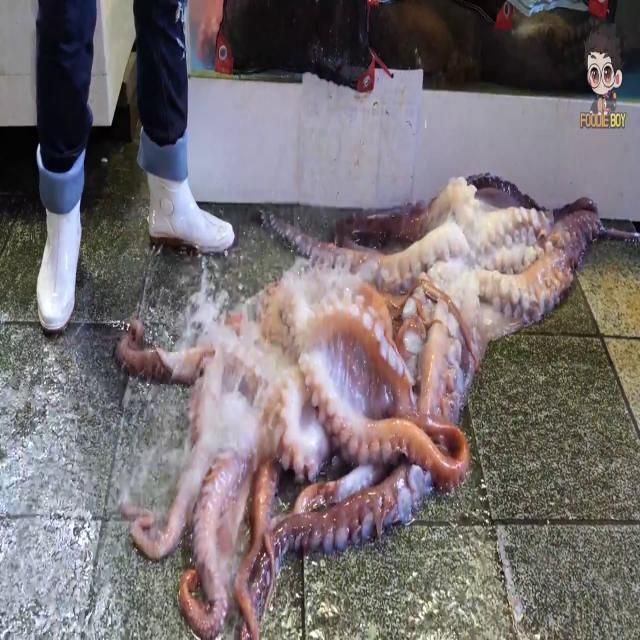octopus: (118, 171, 600, 640)
